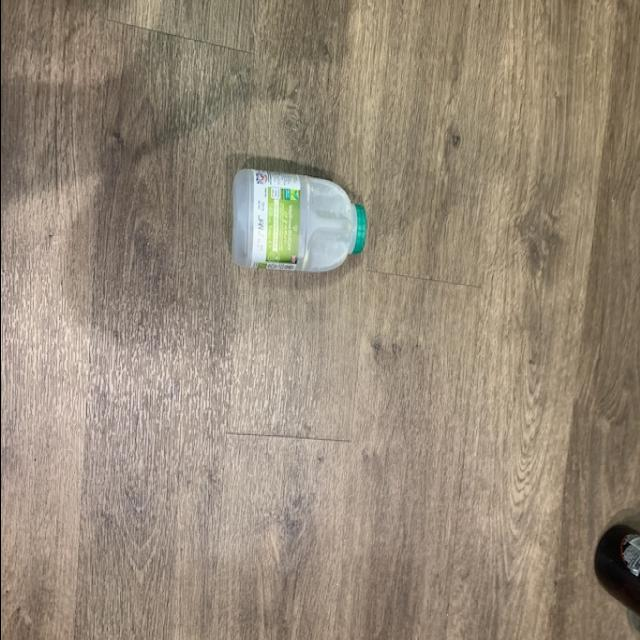litter: (227, 158, 369, 278)
